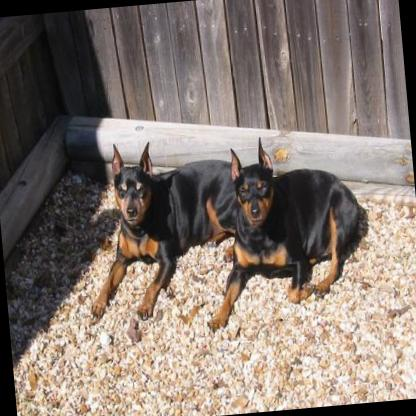miniature_pinscher: (189, 124, 372, 330), (76, 130, 251, 322)
